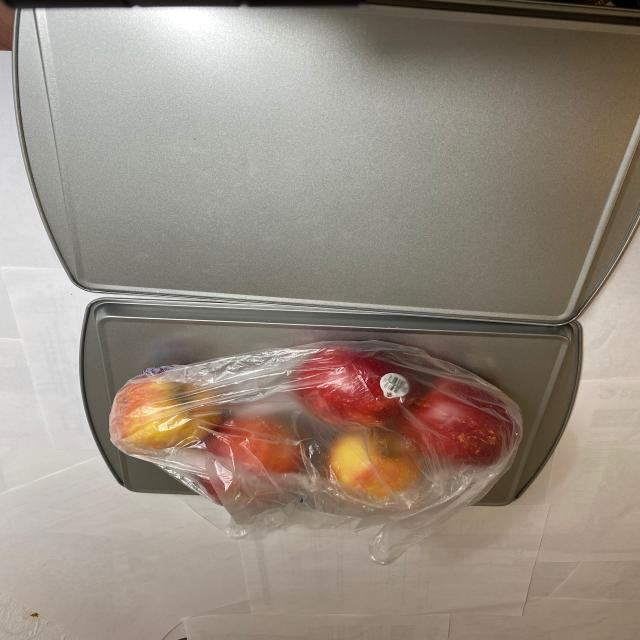apple: (102, 341, 521, 508)
